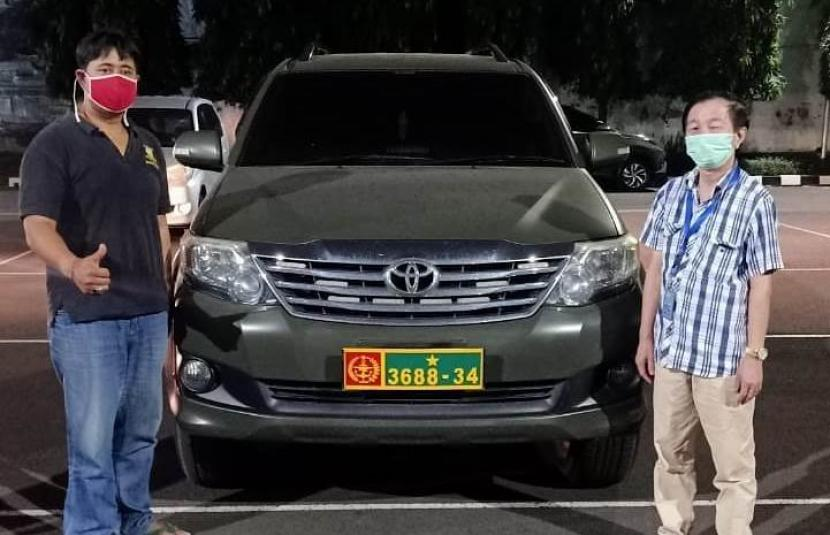plate: (384, 350, 484, 391)
